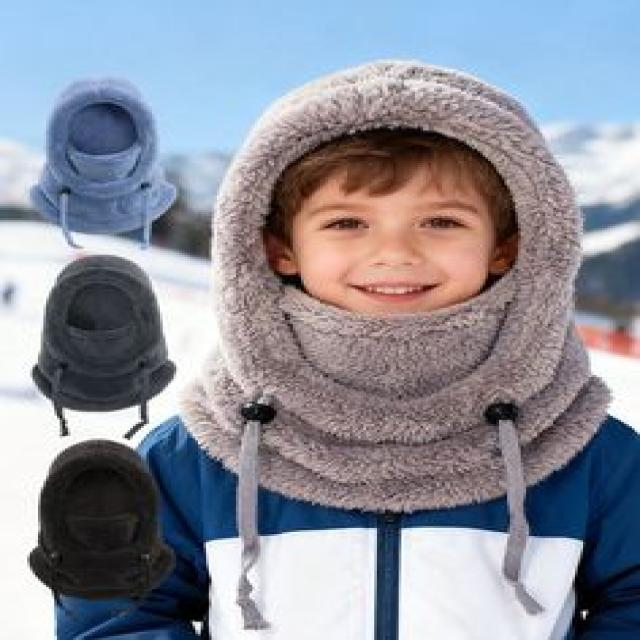4_capucha: (210, 54, 584, 456)
